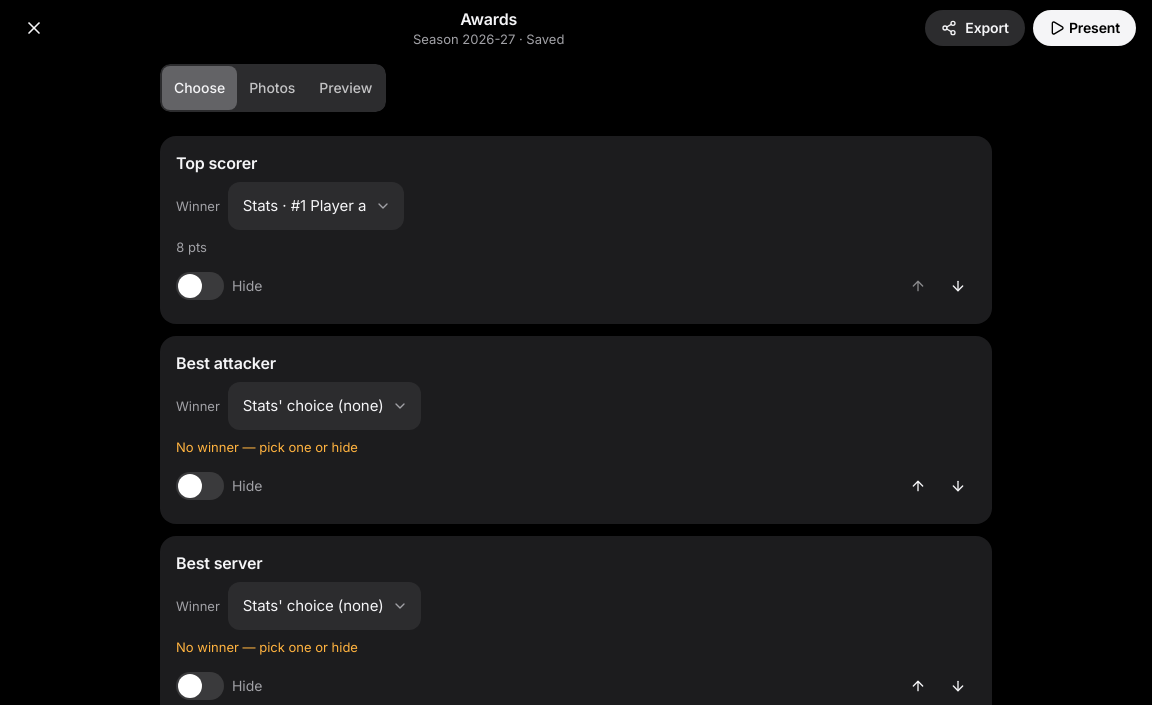
Test: AwardsPage › shows an inline alert when exporting fails
Expected: the element "Best attacker" is shown, [160, 336, 992, 524]
Click the button "Export". click: (975, 28)
box: [925, 10, 1025, 46]
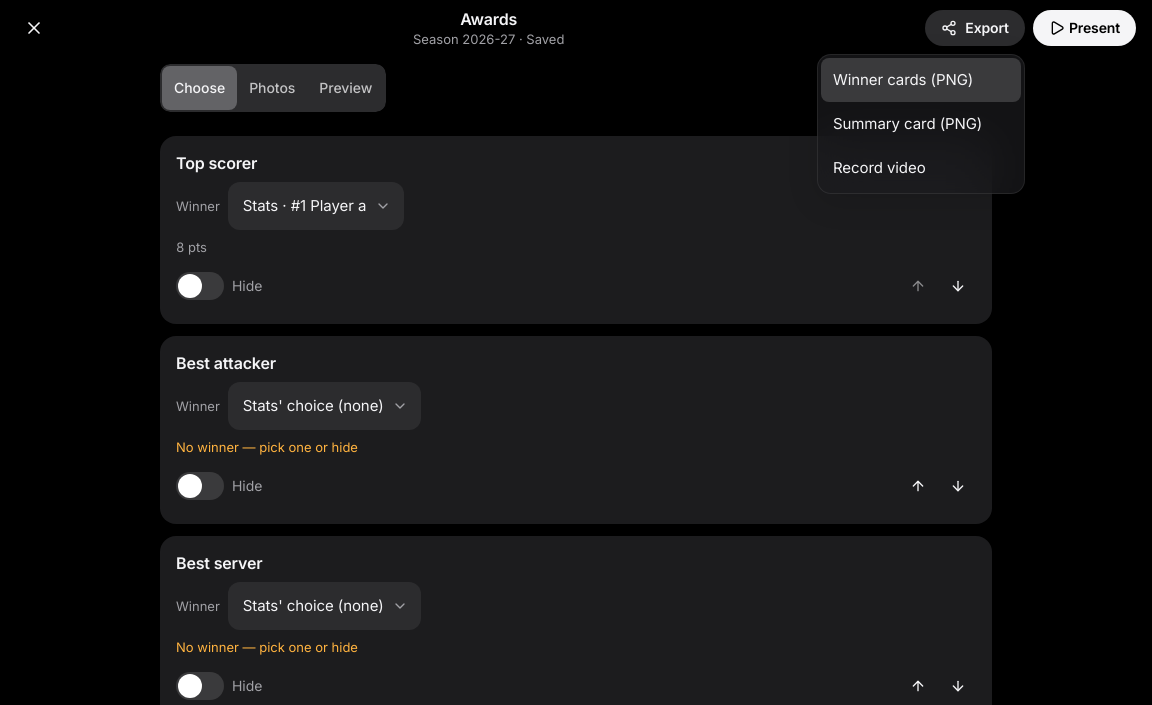
Click the menu item "Winner cards (PNG)". click: (921, 80)
box: [821, 58, 1021, 102]
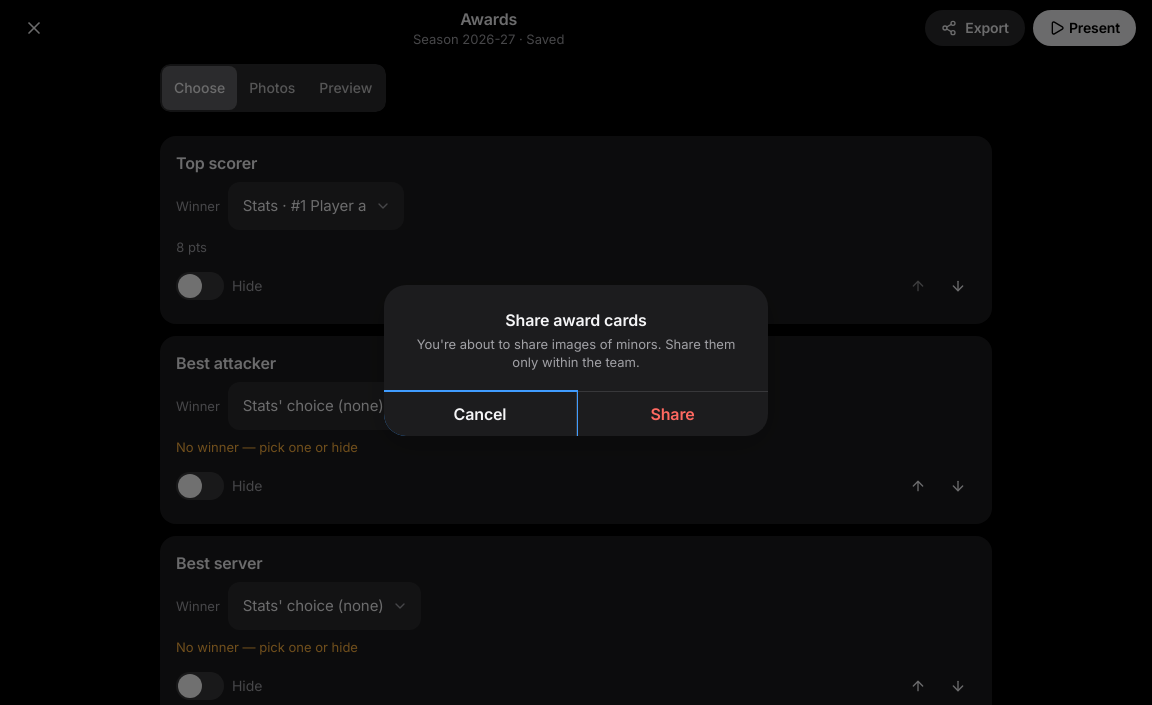
Expected: the dialog shows "Share them only within the team", [417, 336, 735, 370]
Click the button "Share". click: (672, 414)
box: [576, 392, 768, 436]
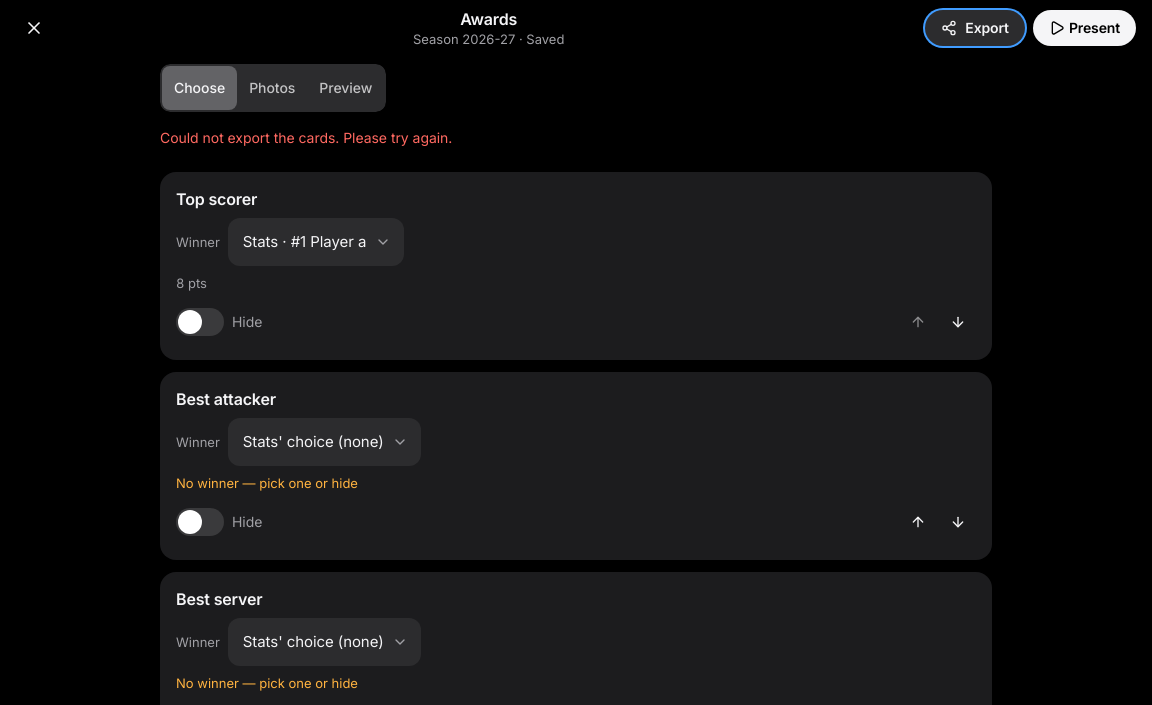
Expected: the message "Could not export the cards. Please try again." is shown, [160, 129, 452, 146]
